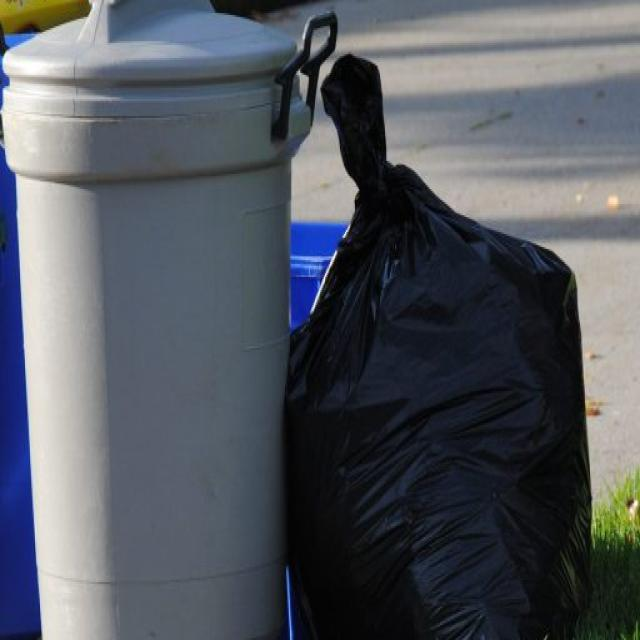Trashbag: (270, 55, 591, 635)
